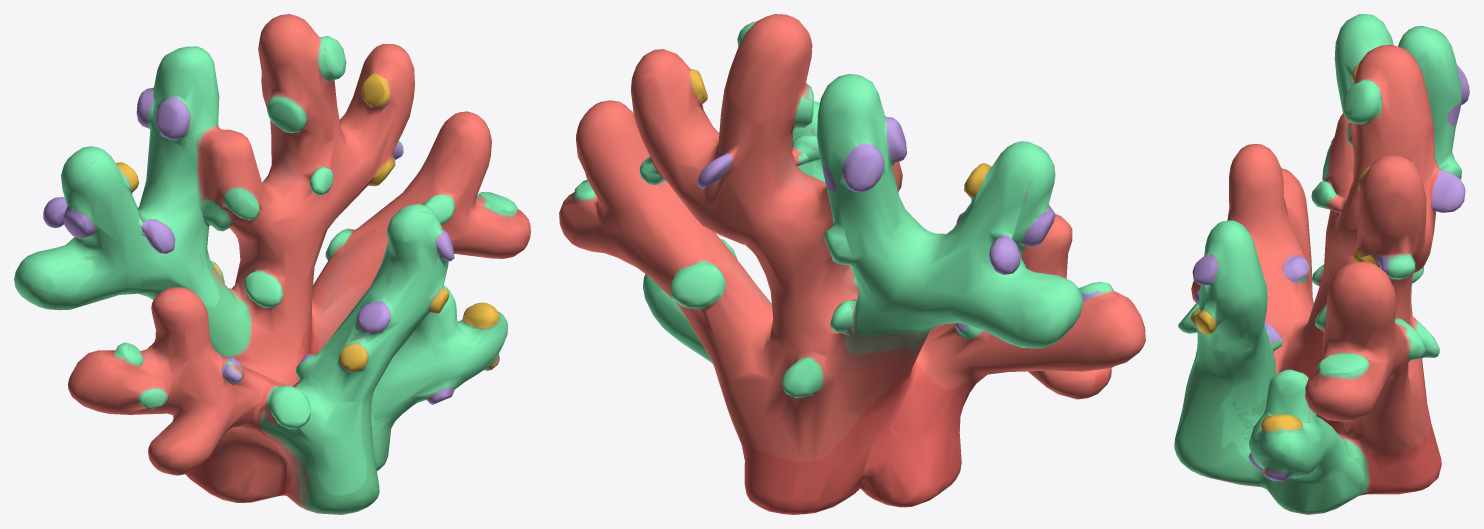
File: coral1.glb
3 renders of one model, left to right at view 1: azimuth 30°, elevation 25°; view 2: azimuth 150°, elevation 25°; view 3: azimuth 270°, elevation 25°, orthographic. The views are drawn at different scales.
Visible parts, largest first — view 1: Mesh_0; view 2: Mesh_0; view 3: Mesh_0.
Part boxes in pixels (box(x1,y1,x2,y2)): Mesh_0: box(14, 14, 530, 514); Mesh_0: box(559, 14, 1145, 514); Mesh_0: box(1174, 14, 1469, 514).
Bounding box in the file's own units: 1.9 × 1.6 × 0.9644.
Materials: 1 (1 with a texture image).
